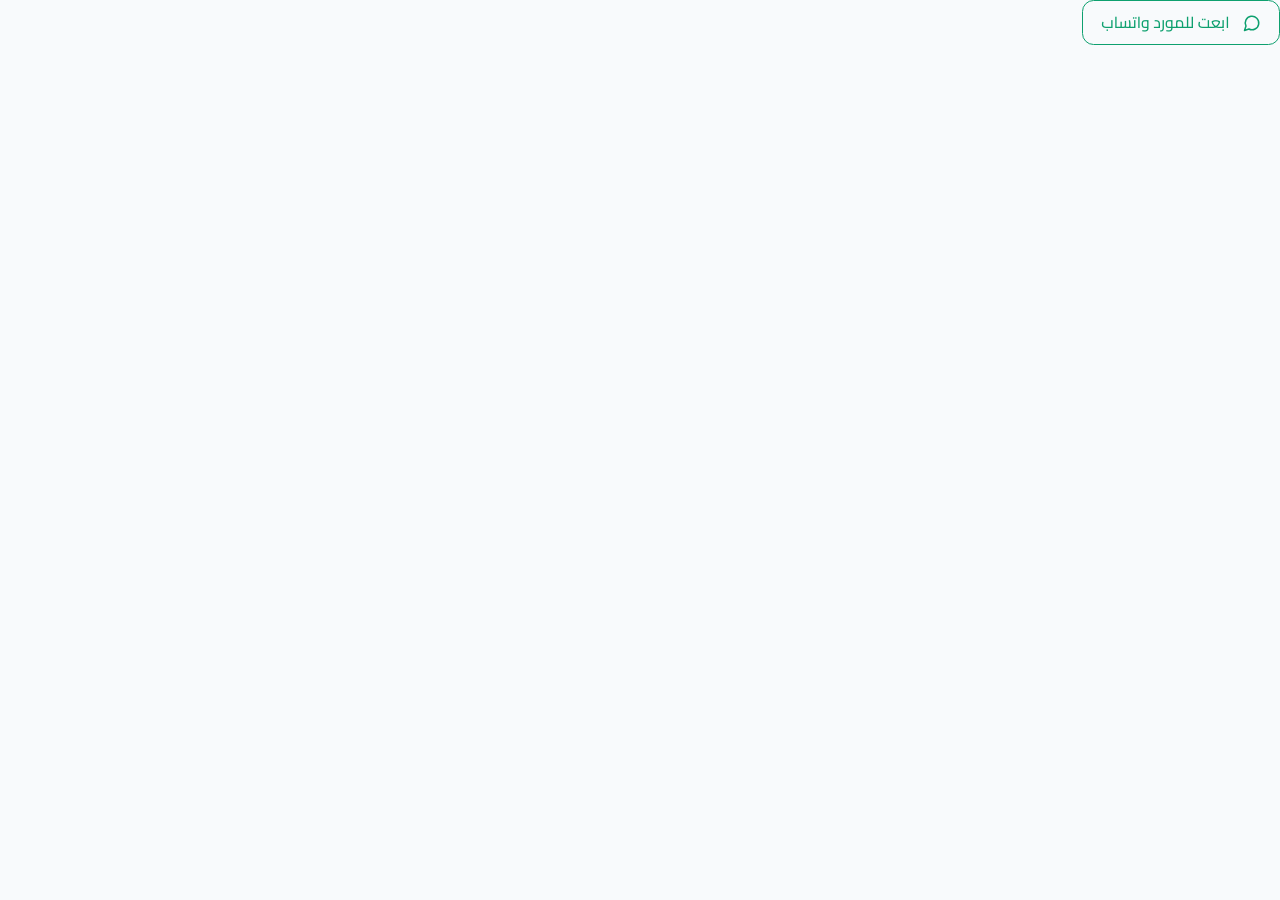
Test: زرار الواتساب — رقم مش موجود ← تنبيه ← صفحة الحساب (owner 2026-11-19) › supplier wording on a purchase invoice
Click the button "ابعت للمورد واتساب" at (1181, 22), box [1082,0,1279,45]
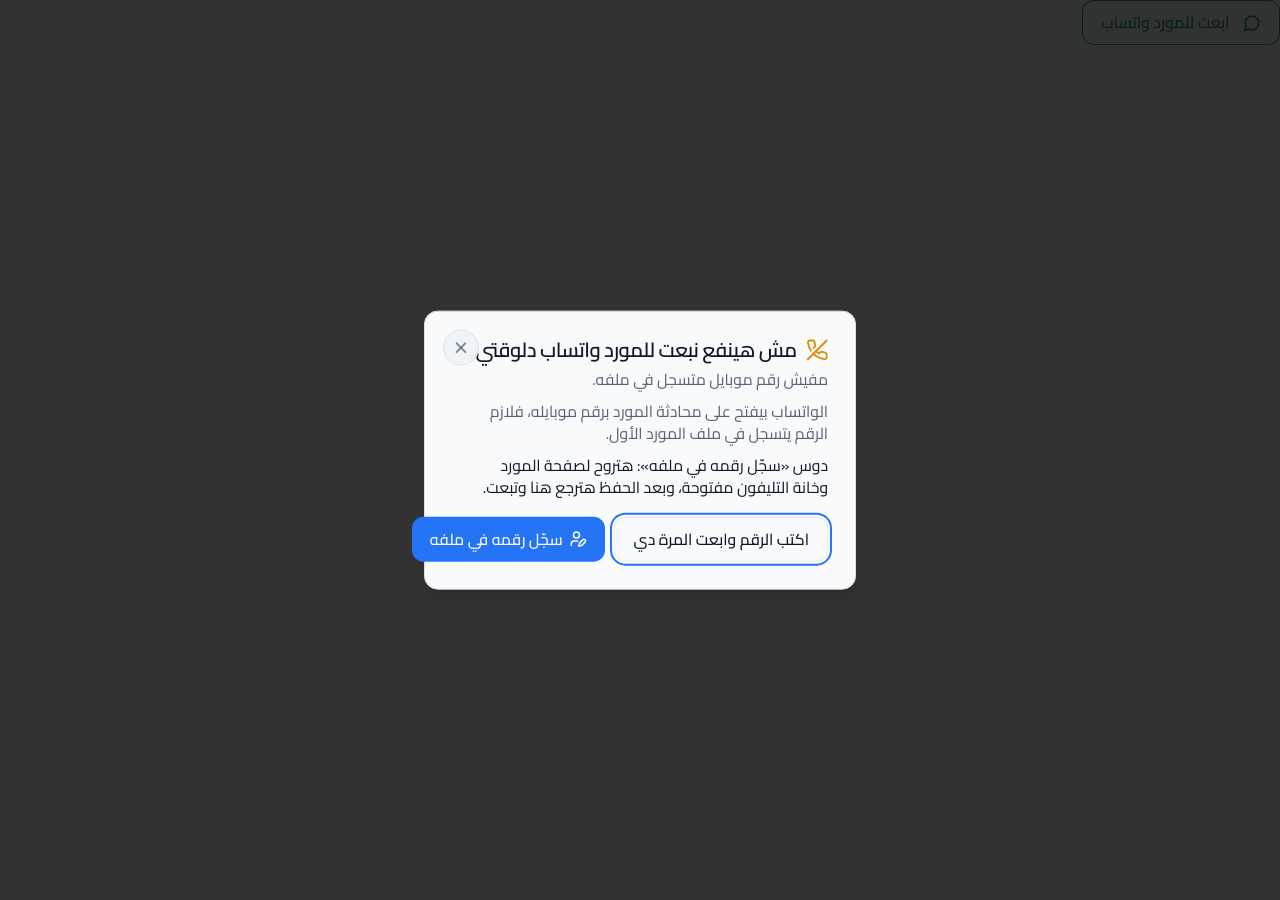
Now the element with test id "wa-problem" shows "المورد", box [613,395,653,425]
